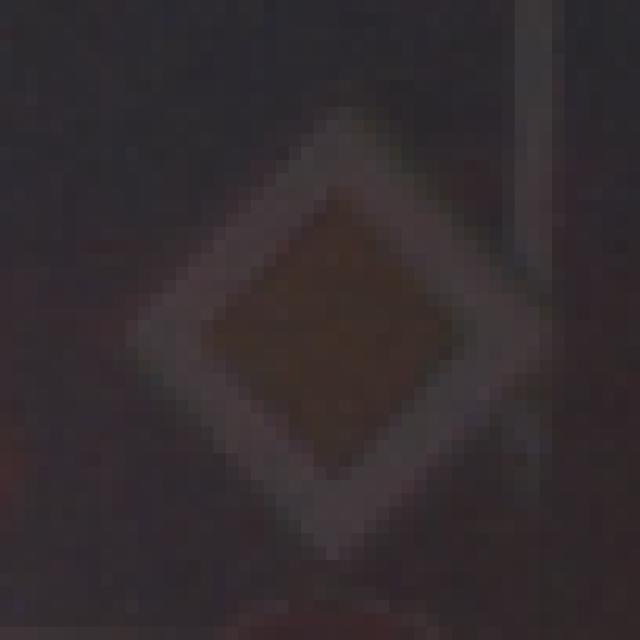Main Road: (77, 68, 579, 561)
